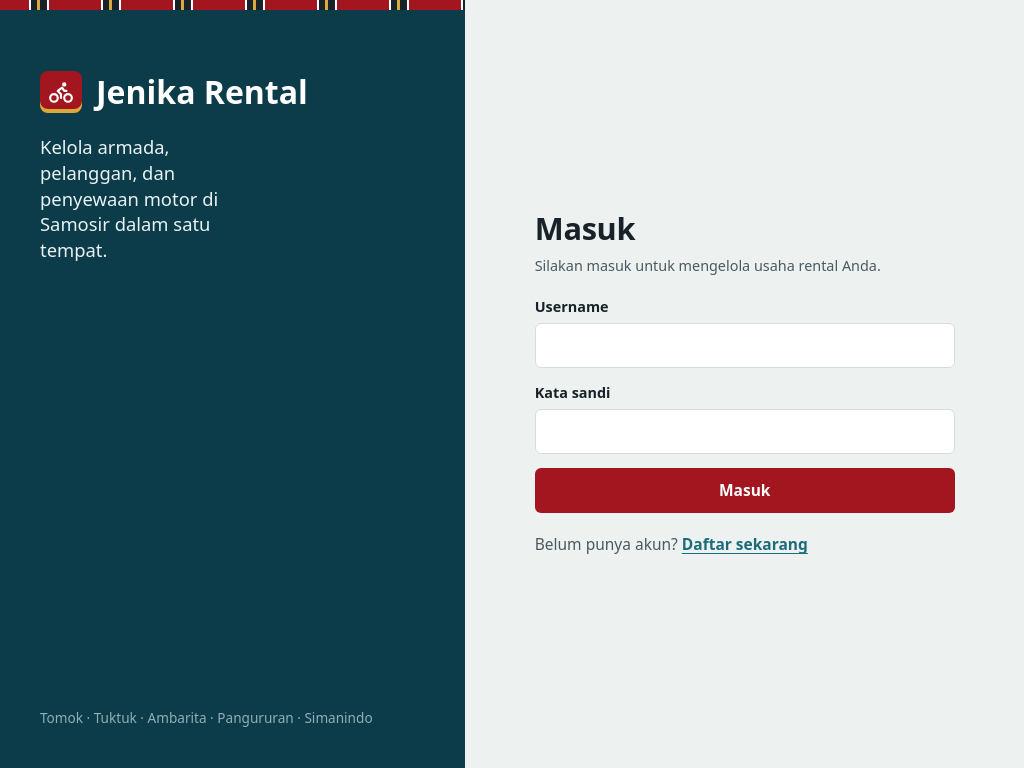
Scenario: Login › gagal: menampilkan pesan dari server
Step 1. Type "dimas" into the field labelled "Username" → (745, 346), box [535,323,955,368]
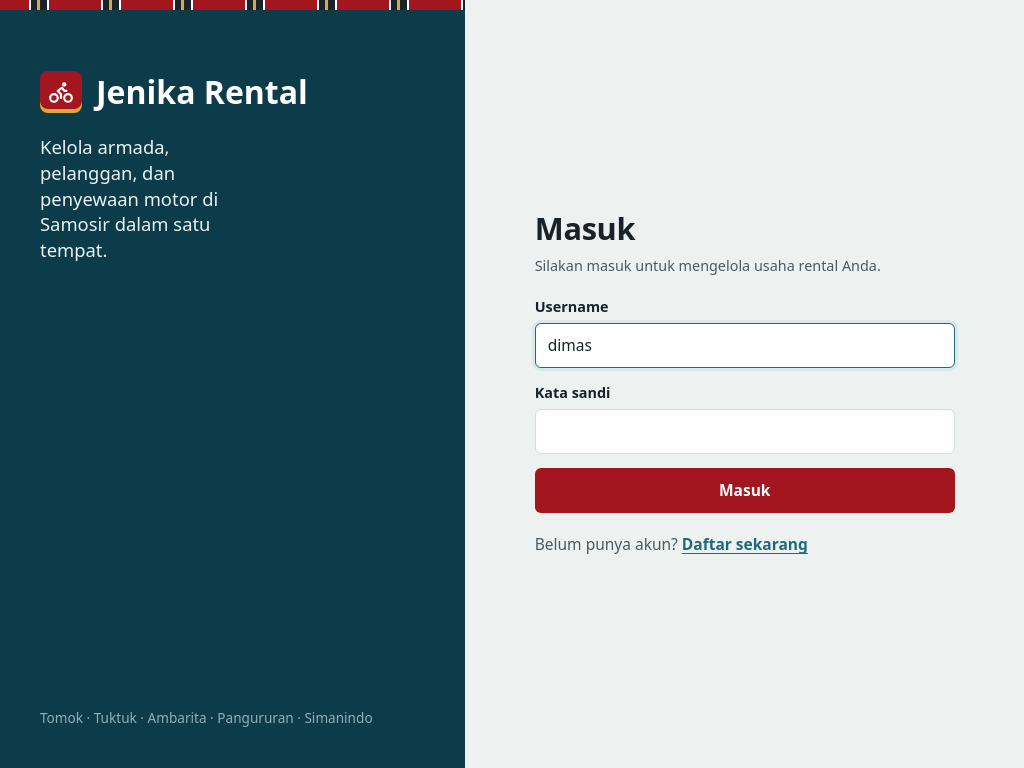
Step 2. Type "salah" into the password field labelled "Kata sandi" → (745, 431), box [535,409,955,454]
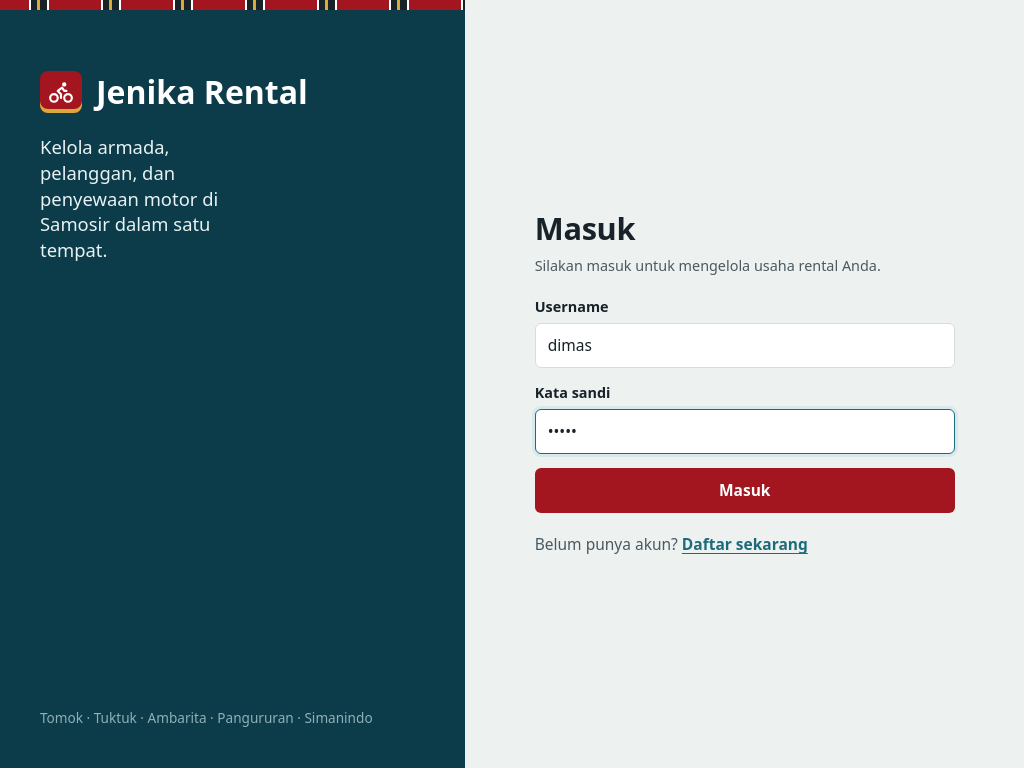
Step 3. Click the button "Masuk" → (745, 491), box [535,468,955,513]
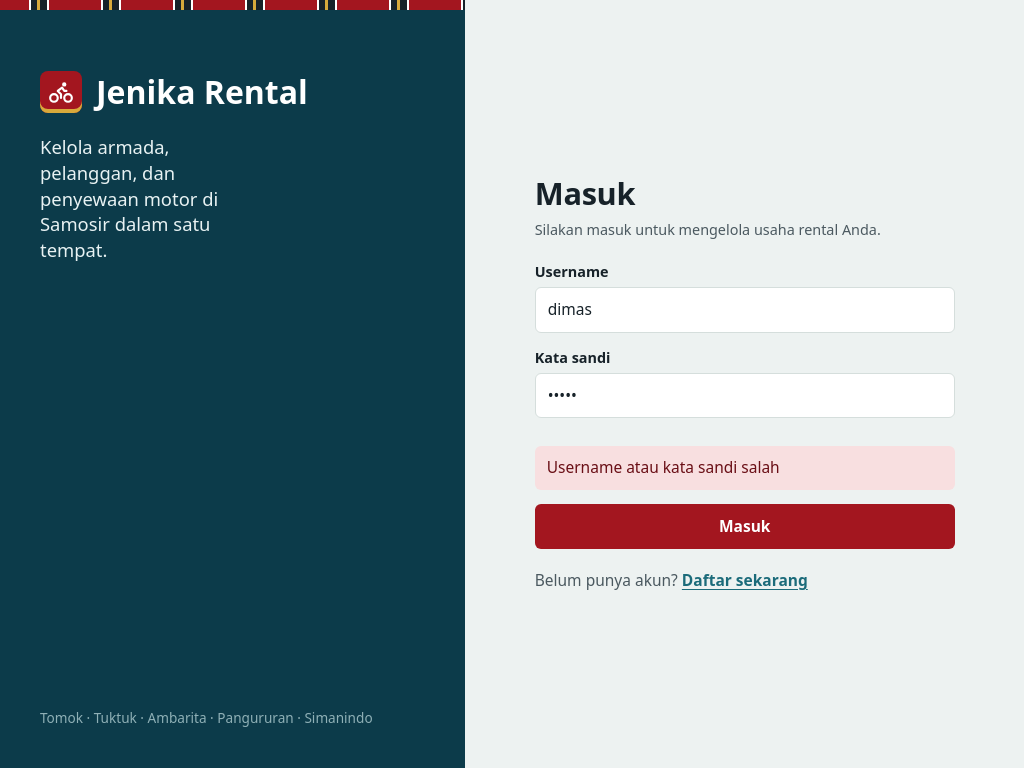
Expected: the text "Username atau kata sandi salah" is shown, [535,446,955,490]
